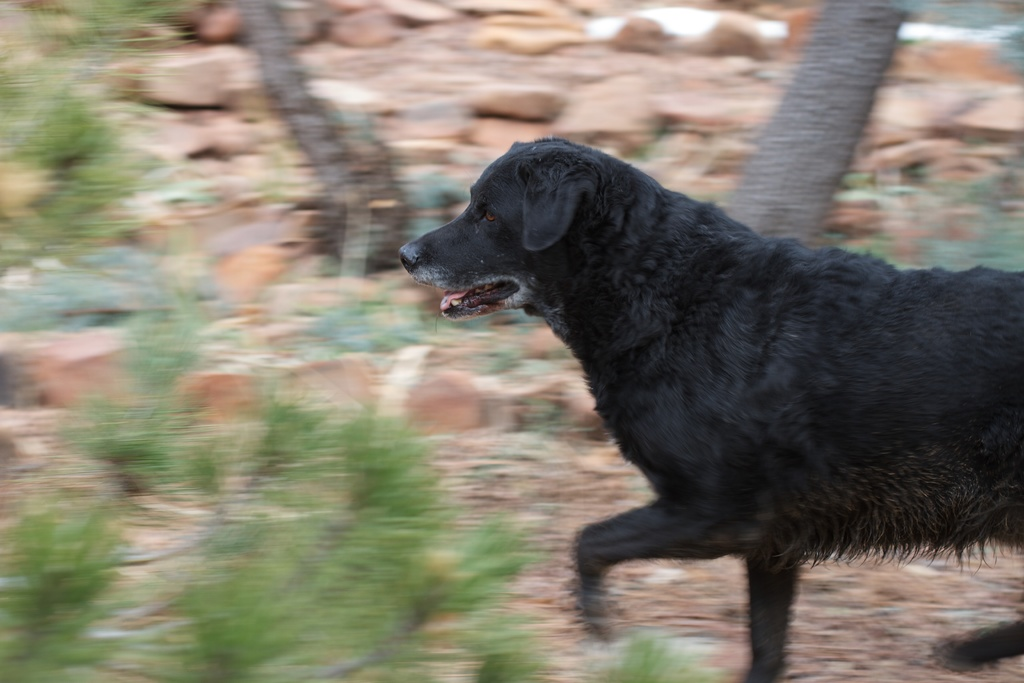Tree: (720, 0, 906, 244)
